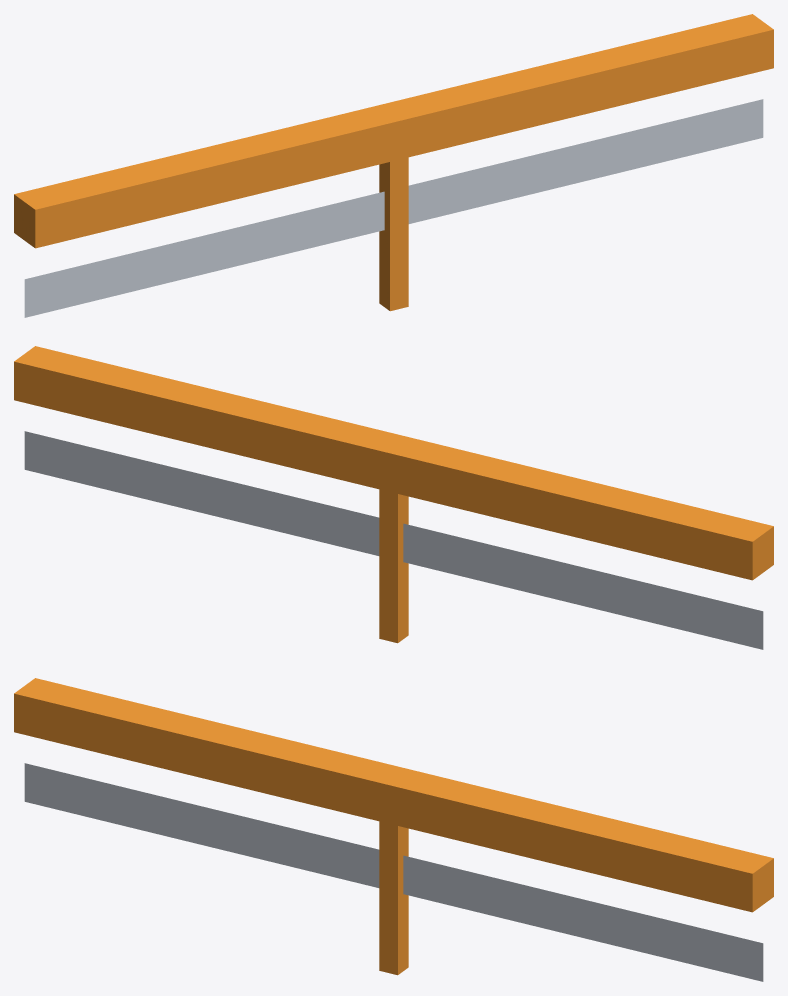
File: rail_middle.glb
3 renders of one model, top to bottom at view 1: azimuth 30°, elevation 25°; view 2: azimuth 150°, elevation 25°; view 3: azimuth 330°, elevation 25°, orthographic.
Visible parts, largest first — view 1: rail_middle; view 2: rail_middle; view 3: rail_middle.
Part boxes in pixels (bbox=[...]): rail_middle: bbox=[14, 14, 773, 317]; rail_middle: bbox=[14, 346, 773, 649]; rail_middle: bbox=[14, 678, 773, 981].
Size of the model in its own units: 1 by 0.25 by 0.05.
